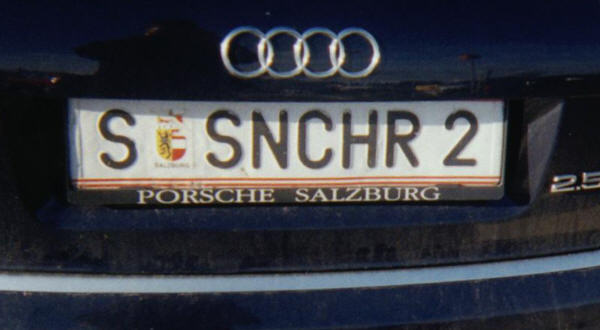license_plate: (69, 100, 506, 187)
